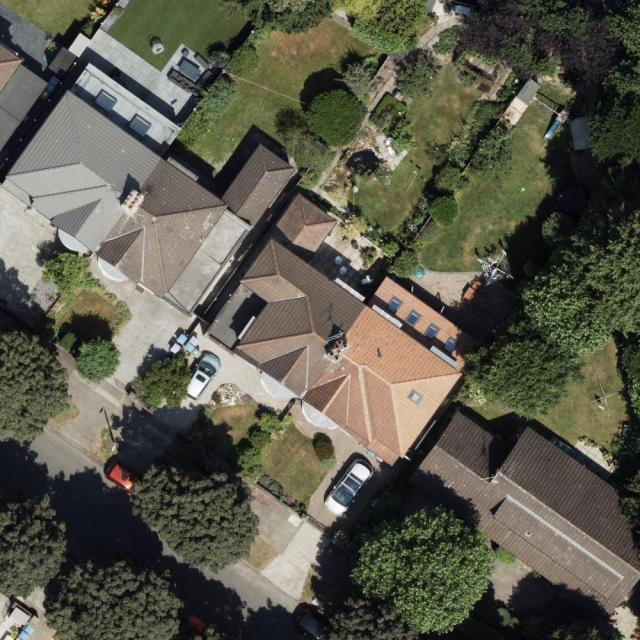roof: (205, 191, 487, 469), (0, 64, 299, 316), (411, 408, 640, 623), (0, 44, 51, 156)
skylight: (123, 111, 150, 140), (93, 88, 118, 114), (404, 309, 423, 328), (441, 335, 460, 354), (385, 296, 403, 316), (423, 321, 441, 340), (406, 388, 424, 404)
